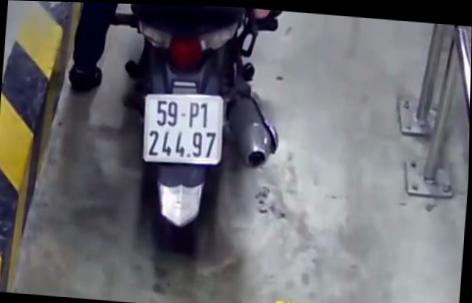LP: (139, 86, 228, 169)
